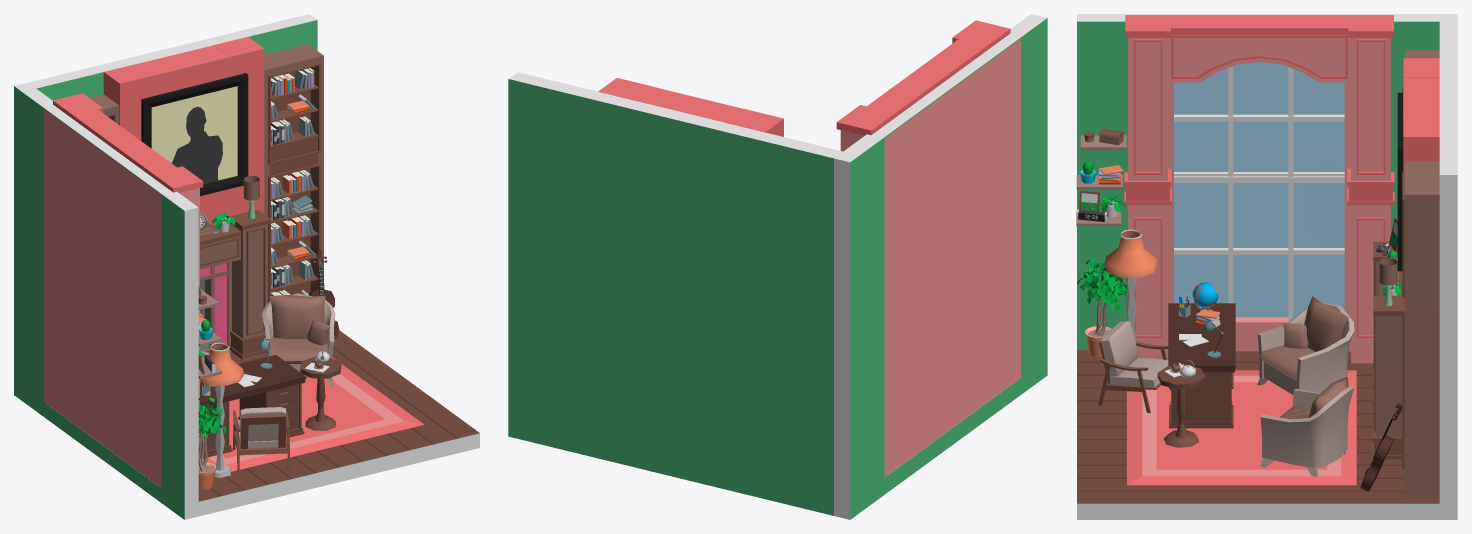
Rendered from room_2.glb.
The picture shows the model from 3 angles, left to right: view 1: azimuth 30°, elevation 25°; view 2: azimuth 150°, elevation 25°; view 3: azimuth 270°, elevation 25°; orthographic projection. The views are drawn at different scales.
Visible parts, largest first — view 1: tv_wall_025.001, Walls_080.002, Walls_080.003, picture_005.001, tv_wall_024.001, wall_007.001, tv_wall_023.001, carpet_002.001, Walls_056.004, Walls_080.001, office_table_005.001, armchair_017.002 (+12 smaller); view 2: Walls_080.001, tv_wall_025.001, Walls_080.003, Walls_080.002, Walls_080.004, Walls_080.005, Walls_137.003, Walls_137.002, Walls_137.001; view 3: tv_wall_025.001, wall_007.001, carpet_002.001, tv_wall_024.001, Walls_080.002, Walls_080.001, Walls_056.004, armchair_017.001, office_table_005.001, armchair_017.002, tv_wall_023.001, lounge_chair_004.001 (+12 smaller).
Boxes of the visible parts, x1,y1,x2,y2 form: tv_wall_025.001: (44, 93, 203, 487); Walls_080.002: (160, 190, 198, 519); Walls_080.003: (14, 82, 56, 418); picture_005.001: (141, 73, 248, 195); tv_wall_024.001: (264, 44, 323, 302); wall_007.001: (198, 330, 479, 501); tv_wall_023.001: (200, 209, 271, 360); carpet_002.001: (203, 357, 424, 471); Walls_056.004: (198, 347, 479, 516); Walls_080.001: (28, 14, 317, 100); office_table_005.001: (200, 355, 306, 458); armchair_017.002: (262, 293, 335, 386); Walls_080.001: (508, 72, 842, 515); tv_wall_025.001: (836, 20, 1020, 476); Walls_080.003: (834, 132, 887, 519); Walls_080.002: (1008, 14, 1047, 395); Walls_080.004: (887, 379, 1019, 491); Walls_080.005: (876, 35, 1019, 135); Walls_137.003: (638, 87, 743, 122); Walls_137.002: (725, 109, 783, 136); Walls_137.001: (598, 78, 656, 101); tv_wall_025.001: (1124, 15, 1394, 363); wall_007.001: (1077, 350, 1439, 503); carpet_002.001: (1127, 370, 1356, 485); tv_wall_024.001: (1402, 161, 1439, 498); Walls_080.002: (1077, 14, 1131, 349); Walls_080.001: (1439, 21, 1457, 519); Walls_056.004: (1077, 361, 1439, 519); armchair_017.001: (1257, 296, 1354, 394); office_table_005.001: (1168, 303, 1235, 428); armchair_017.002: (1260, 377, 1354, 477); tv_wall_023.001: (1372, 241, 1402, 460); lounge_chair_004.001: (1098, 321, 1171, 413).
Size of the model in its own units: 4.2 by 4.25 by 4.21.
1 material, 1 textured.
